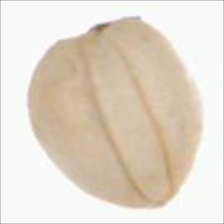L5: (80, 32, 176, 206), (76, 16, 147, 40)
L6: (27, 15, 208, 212)
